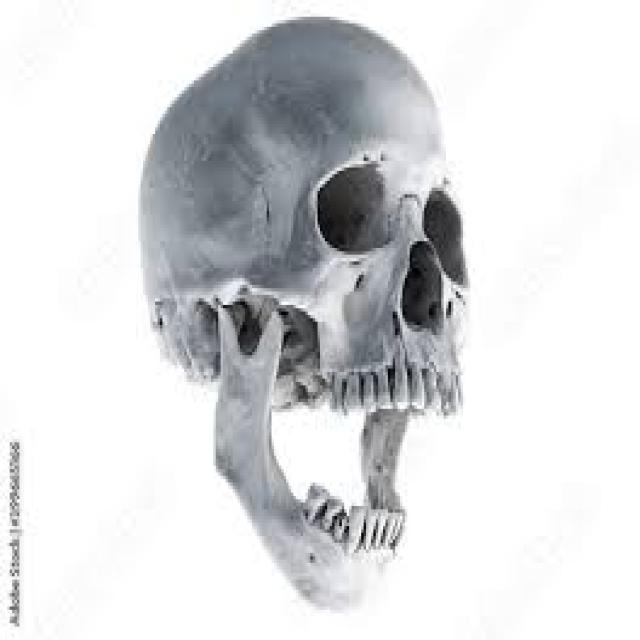skull: (132, 11, 468, 621)
